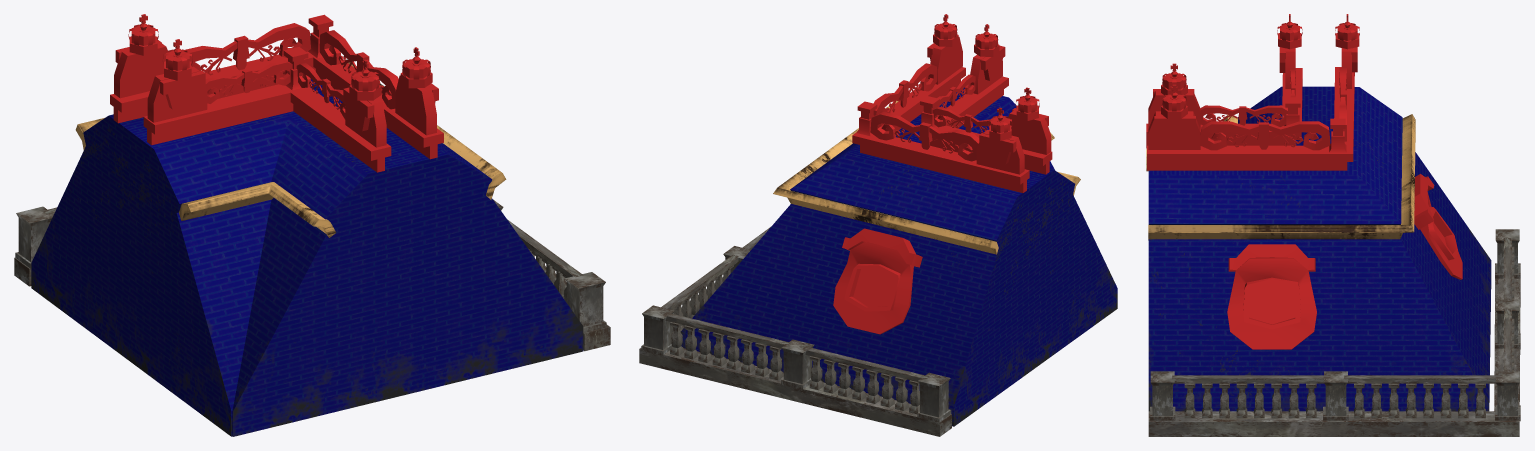
Rendered from palace_roof_top_B.fbx.
3 views of the same model, side by side, from view 1: azimuth 30°, elevation 25°; view 2: azimuth 150°, elevation 25°; view 3: azimuth 270°, elevation 25° (orthographic). The views are drawn at different scales.
Visible parts, largest first — view 1: roof_and_fence_7, statue_and_window; view 2: roof_and_fence_7, statue_and_window; view 3: roof_and_fence_7, statue_and_window.
Part boxes in pixels (x1=…): roof_and_fence_7: x1=14, y1=59, x2=610, y2=436; statue_and_window: x1=110, y1=14, x2=443, y2=172; roof_and_fence_7: x1=639, y1=87, x2=1117, y2=436; statue_and_window: x1=833, y1=14, x2=1052, y2=334; roof_and_fence_7: x1=1146, y1=86, x2=1520, y2=436; statue_and_window: x1=1146, y1=14, x2=1462, y2=349.
Size of the model in its own units: 432 by 359 by 438.
Materials: 2 (1 with a texture image).
